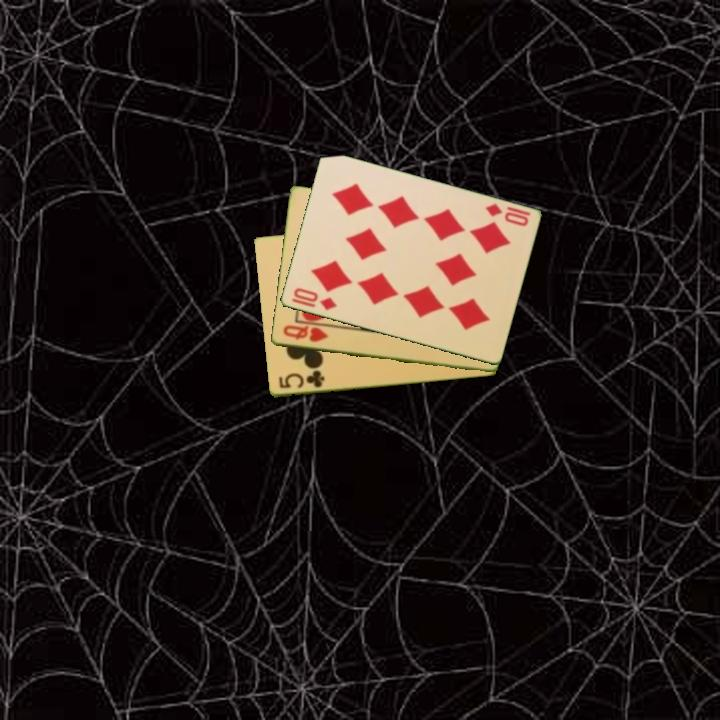10d: (289, 284, 339, 313), (481, 200, 531, 229)
5c: (275, 367, 327, 392)
Qh: (279, 322, 331, 345)
